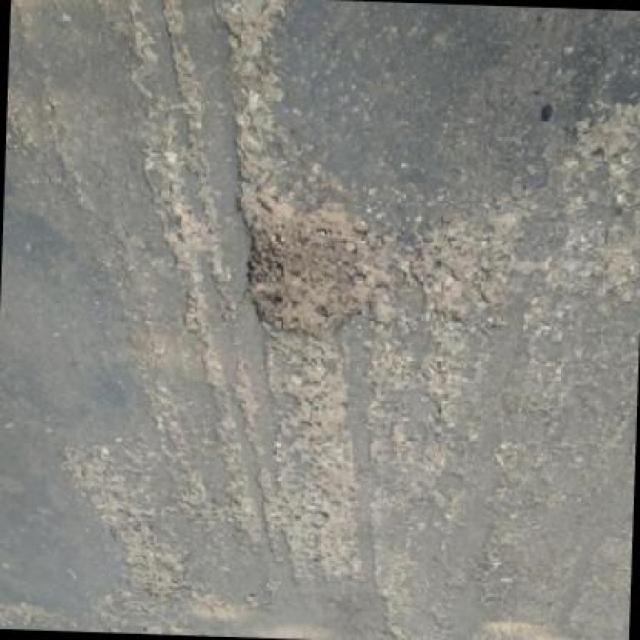pothole1: (228, 187, 374, 344)
